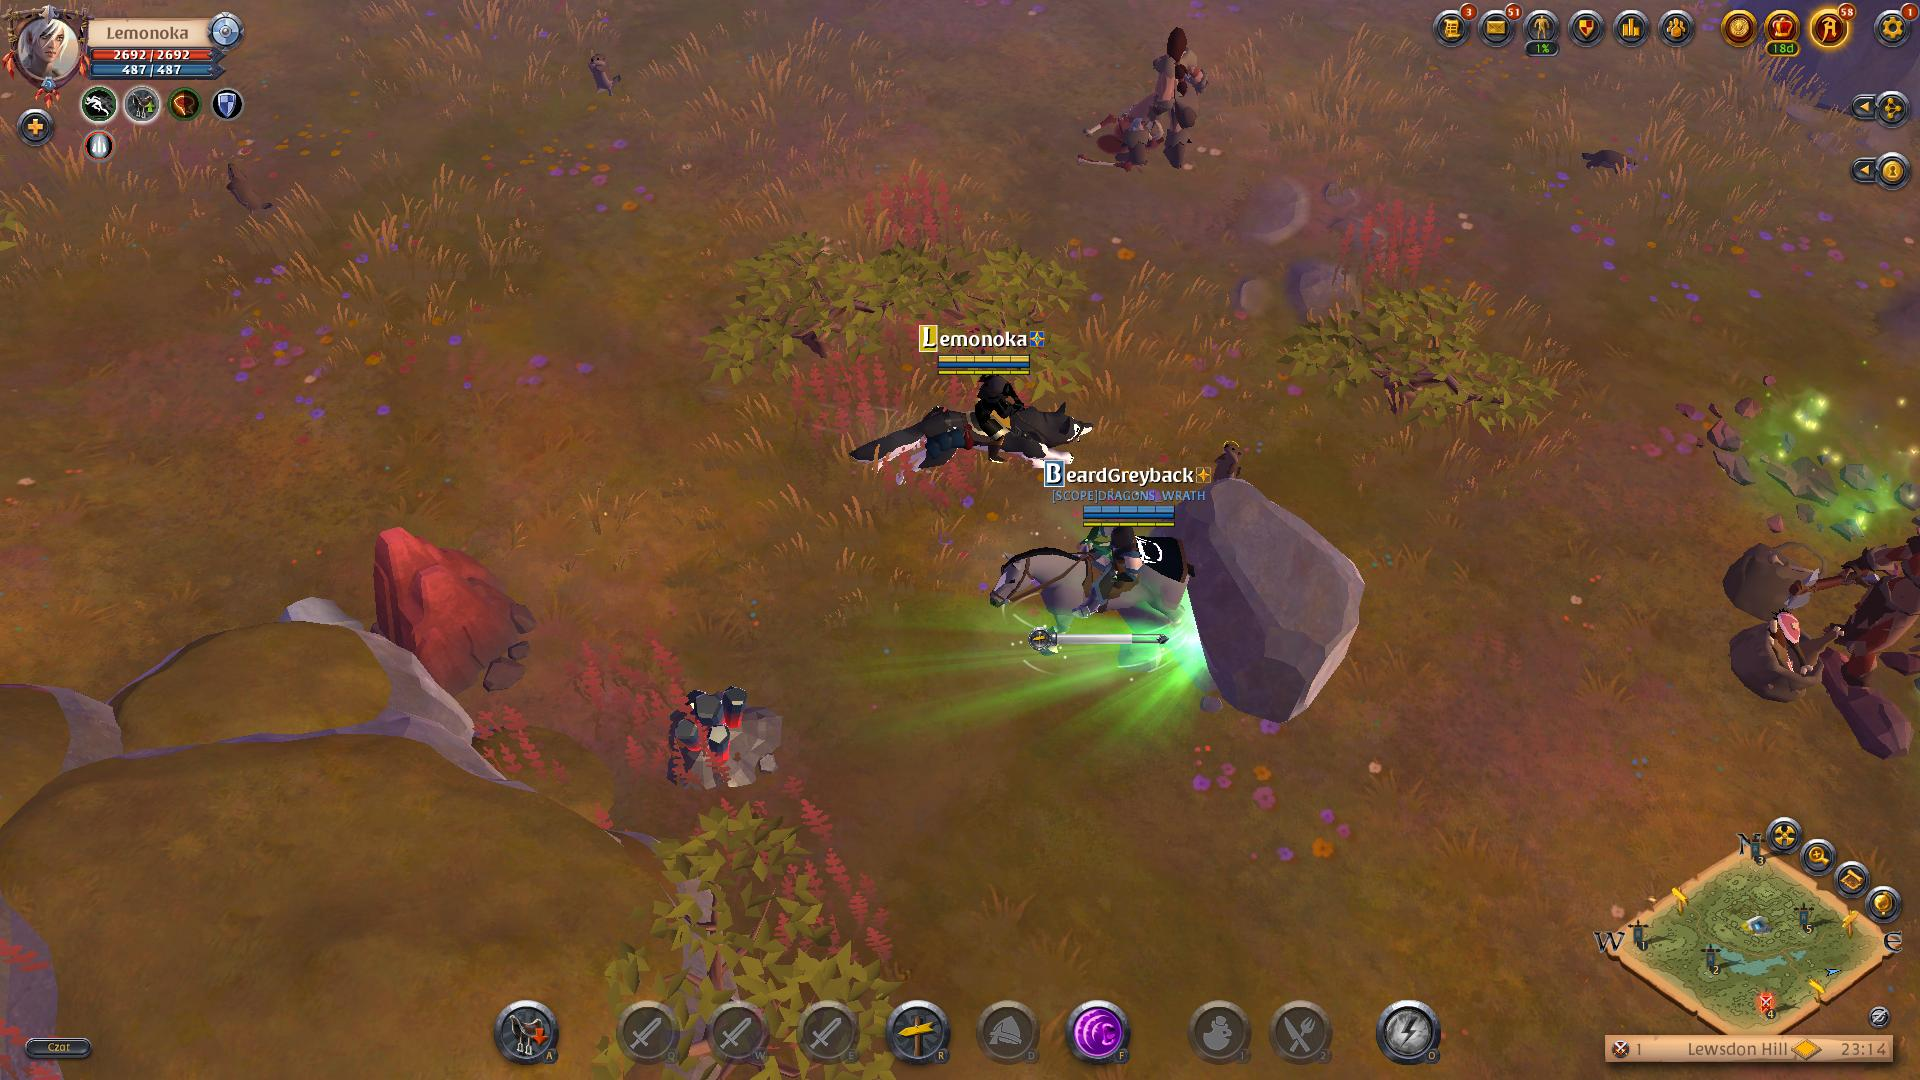ore tier 5: (658, 680, 783, 795)
rock tier 5: (365, 522, 535, 694)
